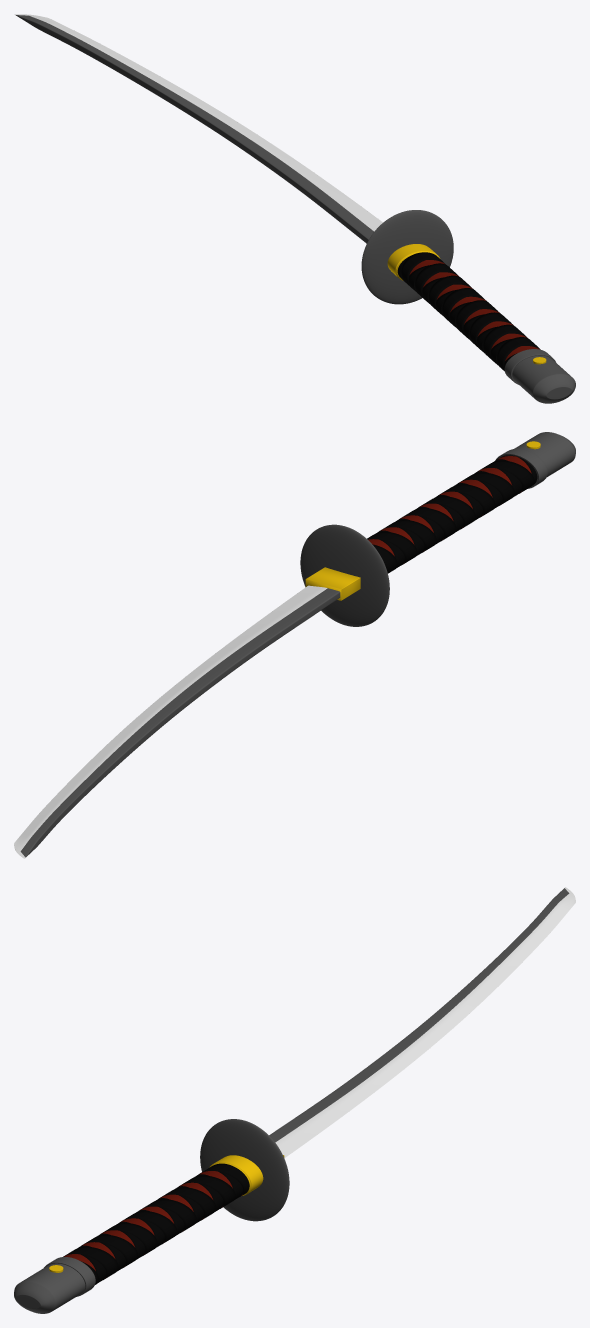
File: katana.glb
3 renders of one model, top to bottom at view 1: azimuth 30°, elevation 25°; view 2: azimuth 150°, elevation 25°; view 3: azimuth 330°, elevation 25°, orthographic. The views are drawn at different scales.
Parts seen in each view (by area): view 1: Cube, guard, wrap2, edge2, wrap1, handle, edge1; view 2: Cube, guard, wrap2, edge2, wrap1, handle, neck; view 3: Cube, guard, wrap2, edge2, wrap1, handle, edge1.
Boxes of the visible parts, box(x1,y1,x2,y2) form: Cube: box(14, 14, 382, 243); guard: box(361, 210, 453, 304); wrap2: box(400, 252, 537, 371); edge2: box(504, 349, 575, 403); wrap1: box(397, 255, 540, 367); handle: box(409, 260, 539, 360); edge1: box(387, 244, 440, 280); Cube: box(14, 585, 340, 858); guard: box(300, 524, 389, 626); wrap2: box(367, 455, 534, 573); edge2: box(495, 432, 575, 488); wrap1: box(376, 456, 537, 567); handle: box(368, 456, 531, 563); neck: box(305, 567, 360, 600); Cube: box(269, 887, 575, 1158); guard: box(200, 1119, 289, 1221); wrap2: box(63, 1163, 249, 1284); edge2: box(14, 1257, 95, 1313); wrap1: box(77, 1163, 243, 1283); handle: box(64, 1171, 242, 1278); edge1: box(209, 1155, 263, 1195).
Bounding box in the file's own units: 0.608 × 0.5948 × 6.11.
